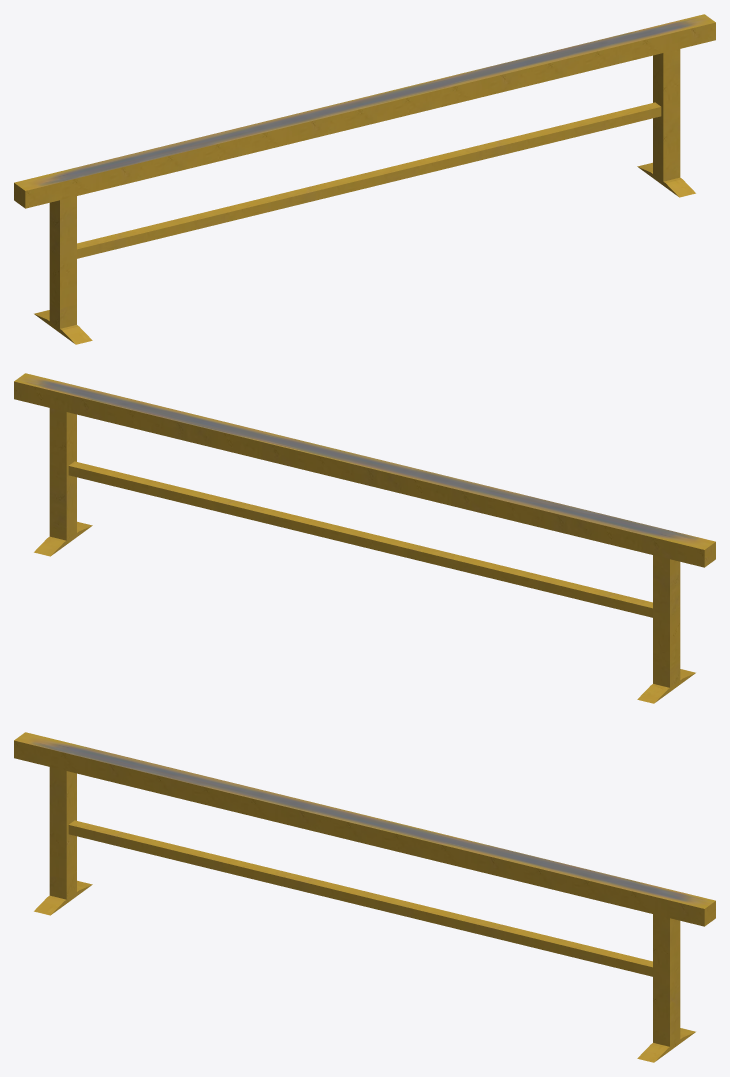
Rendered from skate-rail.lod0.glb.
3 renders of one model, top to bottom at view 1: azimuth 30°, elevation 25°; view 2: azimuth 150°, elevation 25°; view 3: azimuth 330°, elevation 25°, orthographic.
Visible parts, largest first — view 1: RailStraight_M_Rail_0; view 2: RailStraight_M_Rail_0; view 3: RailStraight_M_Rail_0.
Part boxes in pixels (bbox=[...]): RailStraight_M_Rail_0: bbox=[14, 14, 715, 344]; RailStraight_M_Rail_0: bbox=[14, 373, 715, 703]; RailStraight_M_Rail_0: bbox=[14, 732, 715, 1062].
Size of the model in its own units: 3.09 by 0.6455 by 0.3284.
Materials: 1 (1 with a texture image).
